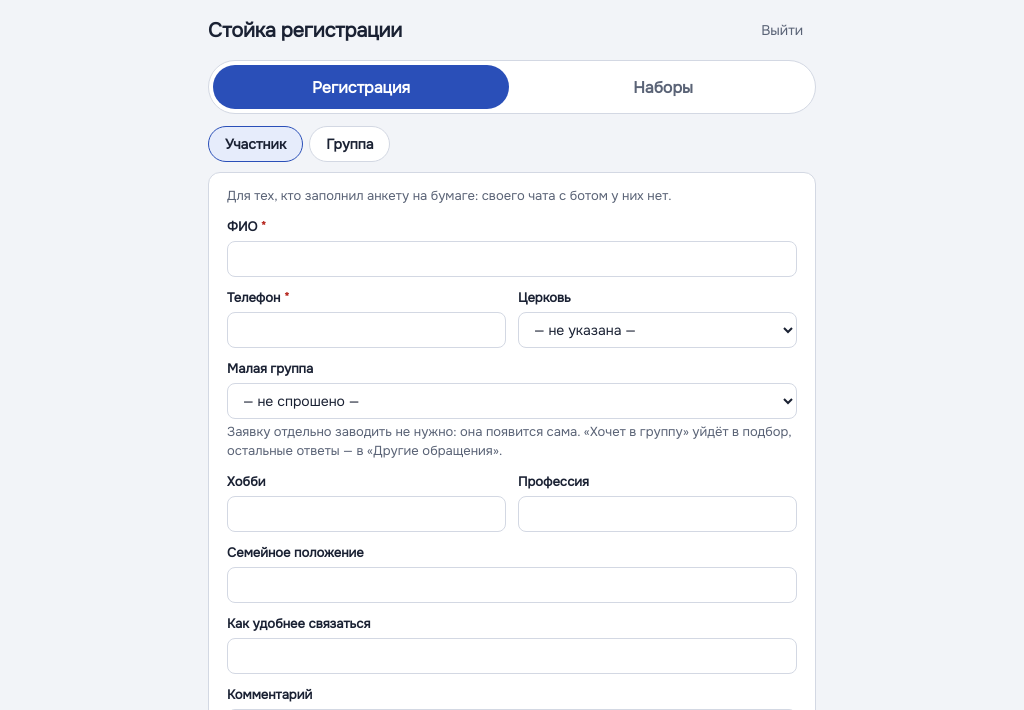
стойка: группа и наборы на той же странице › вкладка «Наборы» — выдача наборов; данные остальных разделов не запрашиваются
Expected: the dropdown labelled "Церковь" is shown, [518,312,797,348]
What coordinates should you click on to do the following:
click the tab "Наборы"
I would click on:
 (663, 87)
Its box is [515,65,811,109].
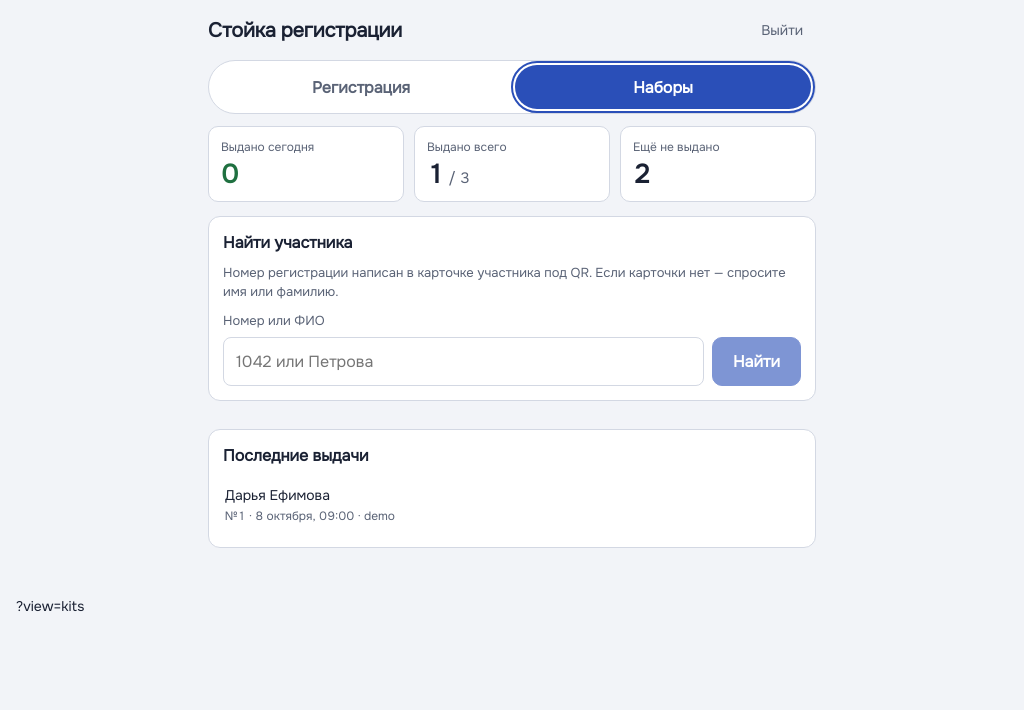
Expected: the search field labelled "Номер или ФИО" is shown, [223,337,704,386]
